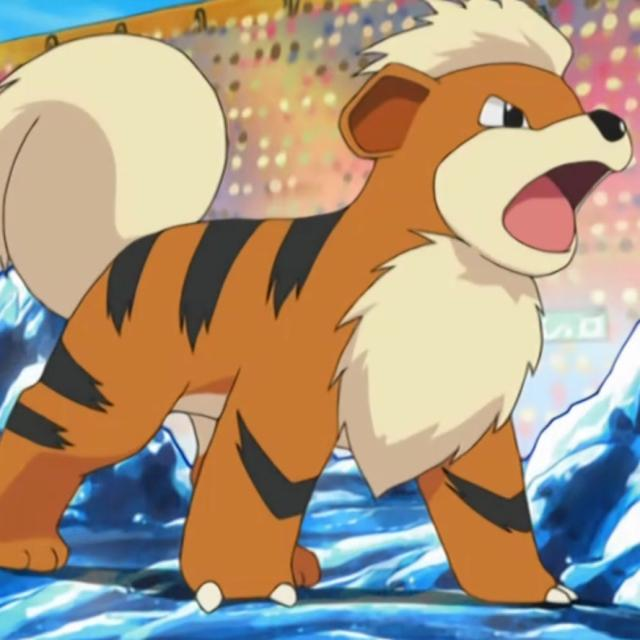Growlithe: (40, 63, 607, 615)
